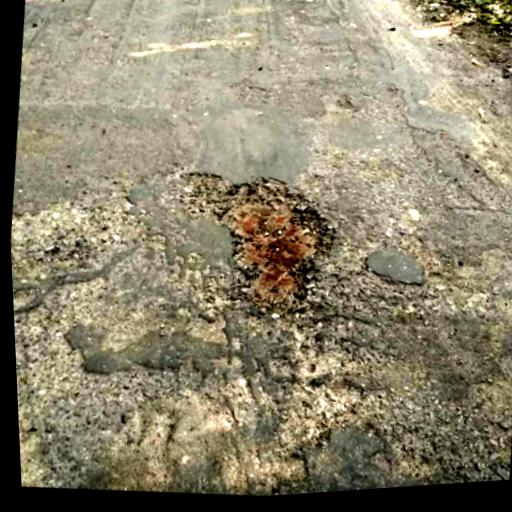pothole: (162, 156, 345, 325)
